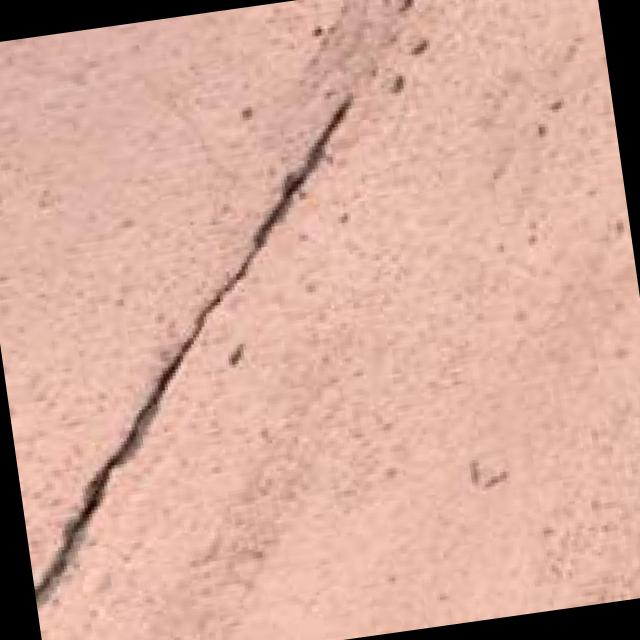crack: (0, 0, 501, 592)
